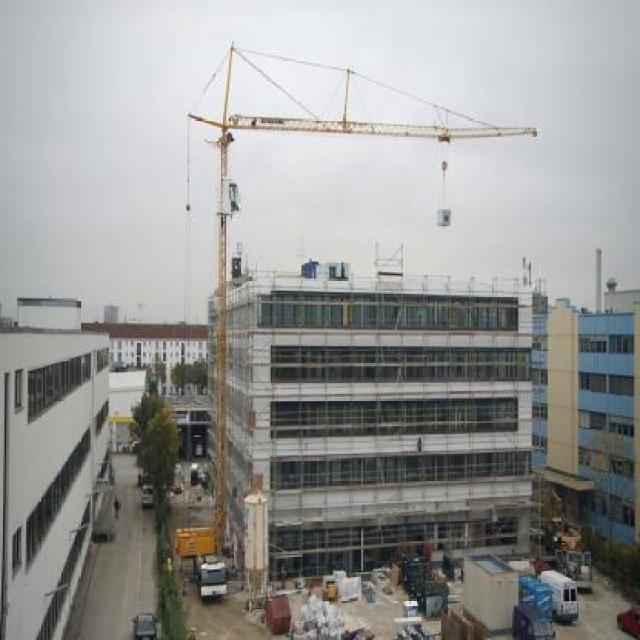Mobile Crane: (181, 44, 536, 598)
